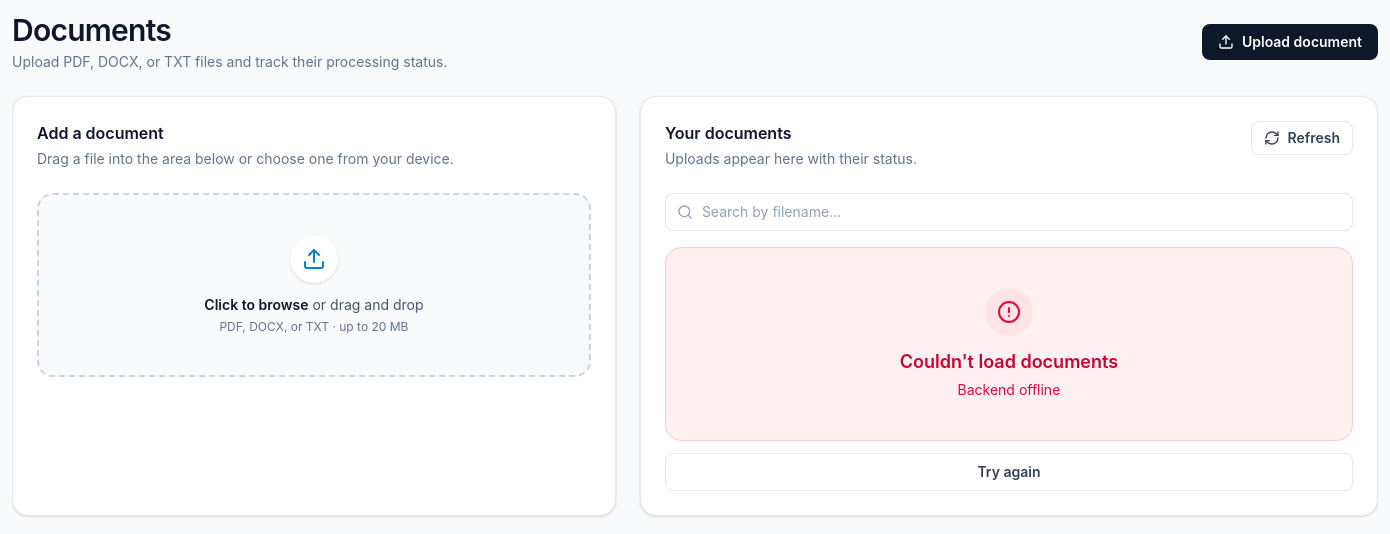
Scenario: DocumentsPage › recovers from a list failure with retry
The width and height of the screenshot is (1390, 534).
Expected: the heading "Couldn't load documents" is shown, [900, 348, 1118, 376]
What coordinates should you click on to do the following:
click the button "Try again"
I would click on:
 (1009, 472)
Its box is [665, 453, 1353, 491].
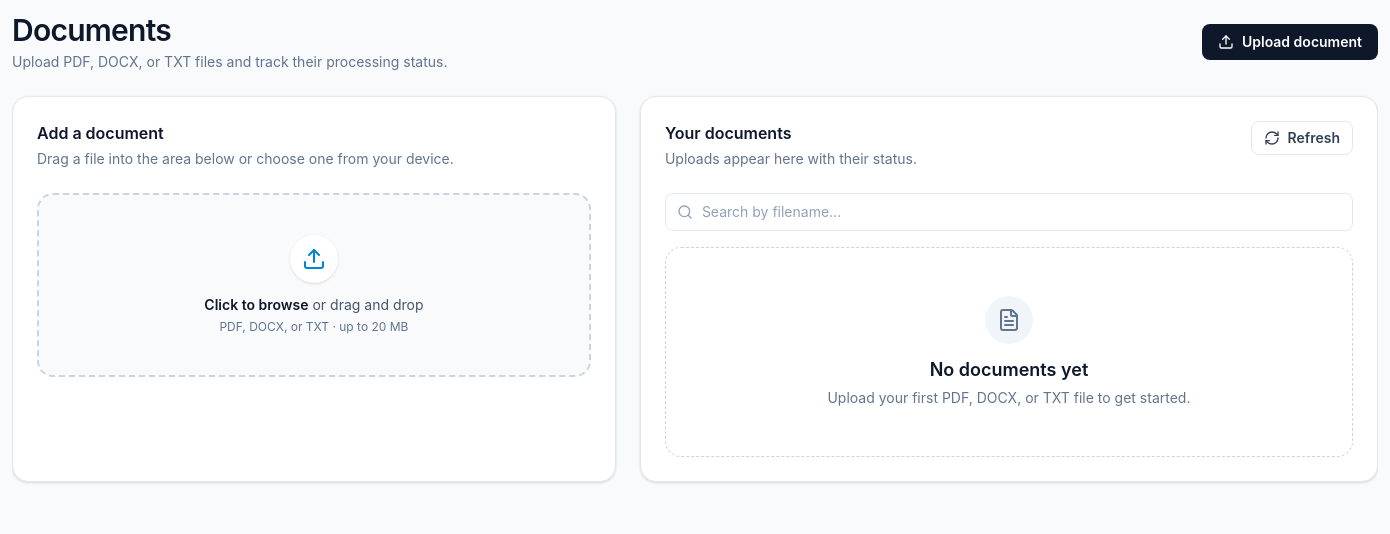
Result: the heading "No documents yet" is shown at [930, 359, 1088, 380]
